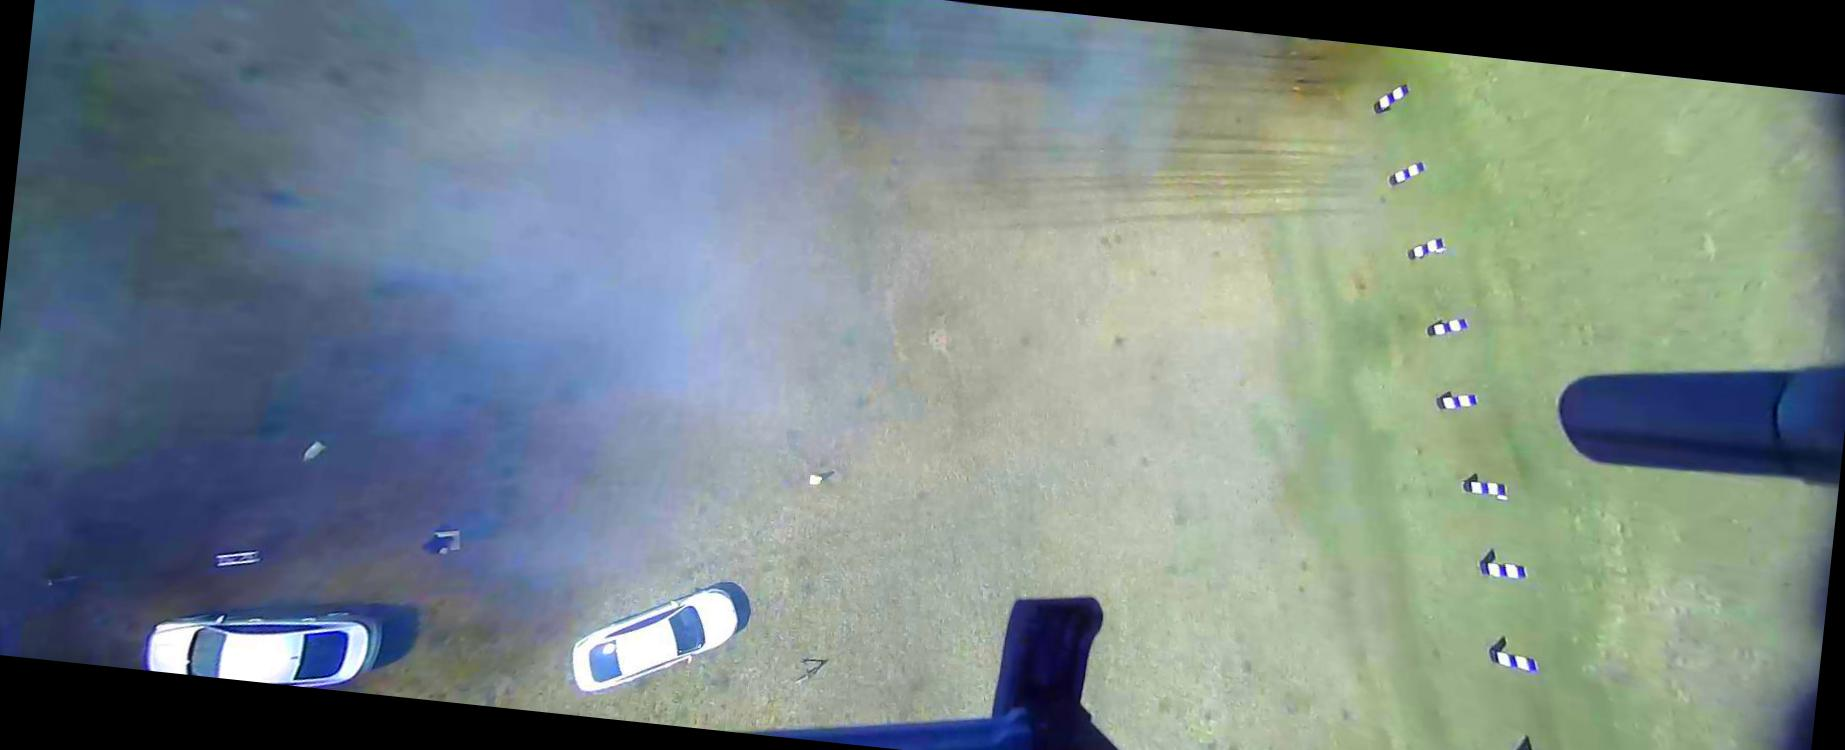vehicle: (144, 589, 386, 693), (567, 572, 742, 709)
